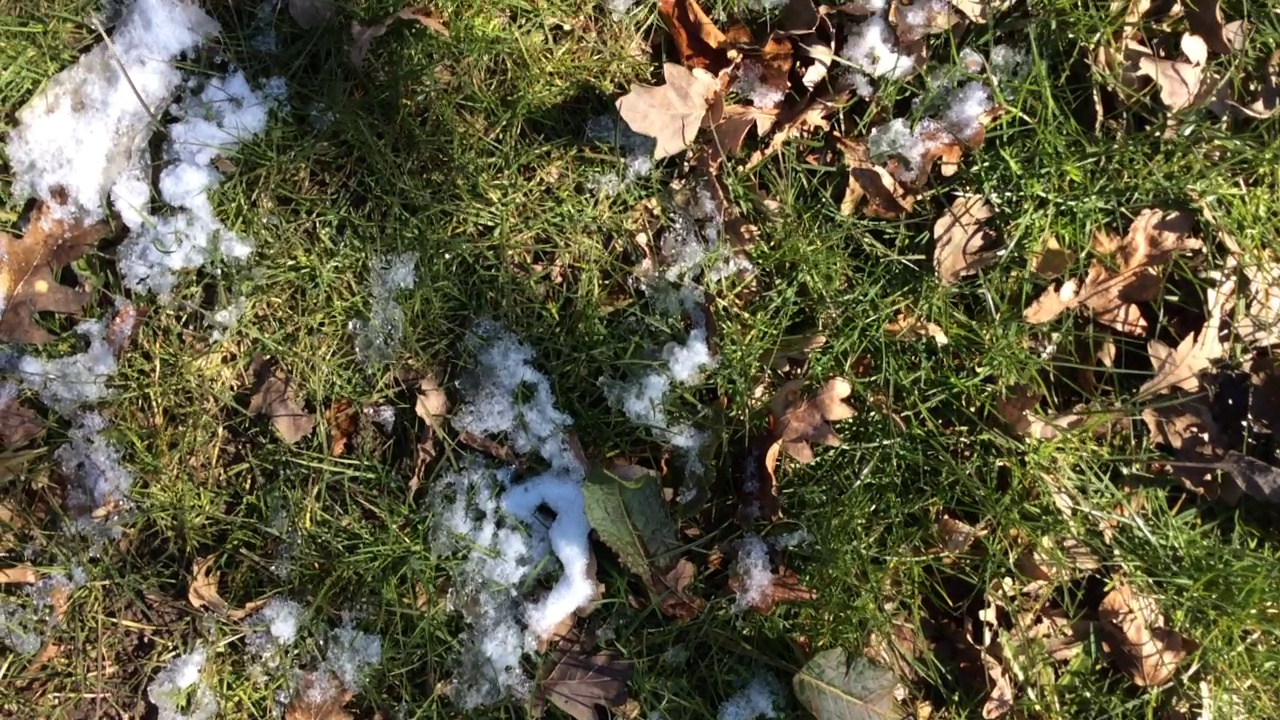root: (673, 611, 773, 663)
rumex: (575, 460, 906, 720)
